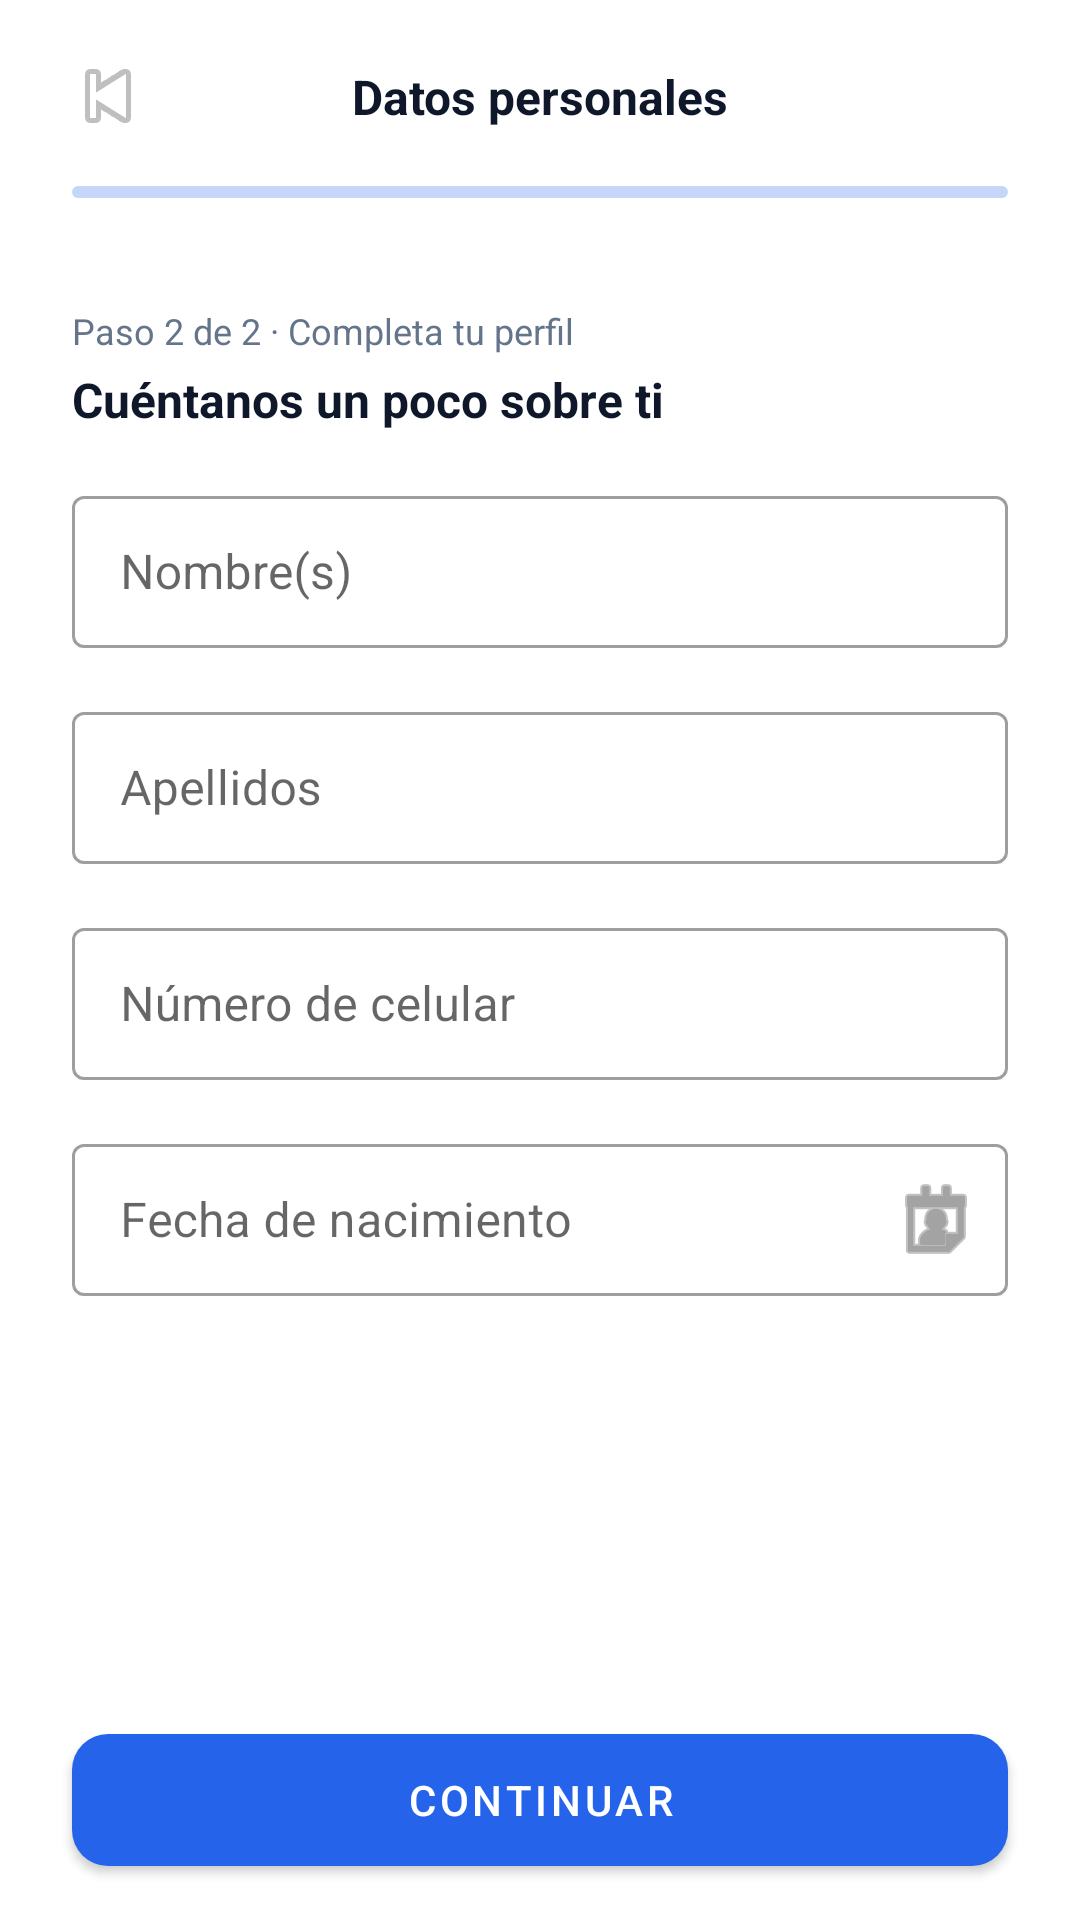

Named icons in this screenshot (1080w x 1920h) and their bounding boxes, (x1, y1, x2, y2):
Regresar: (85, 69, 131, 123)
